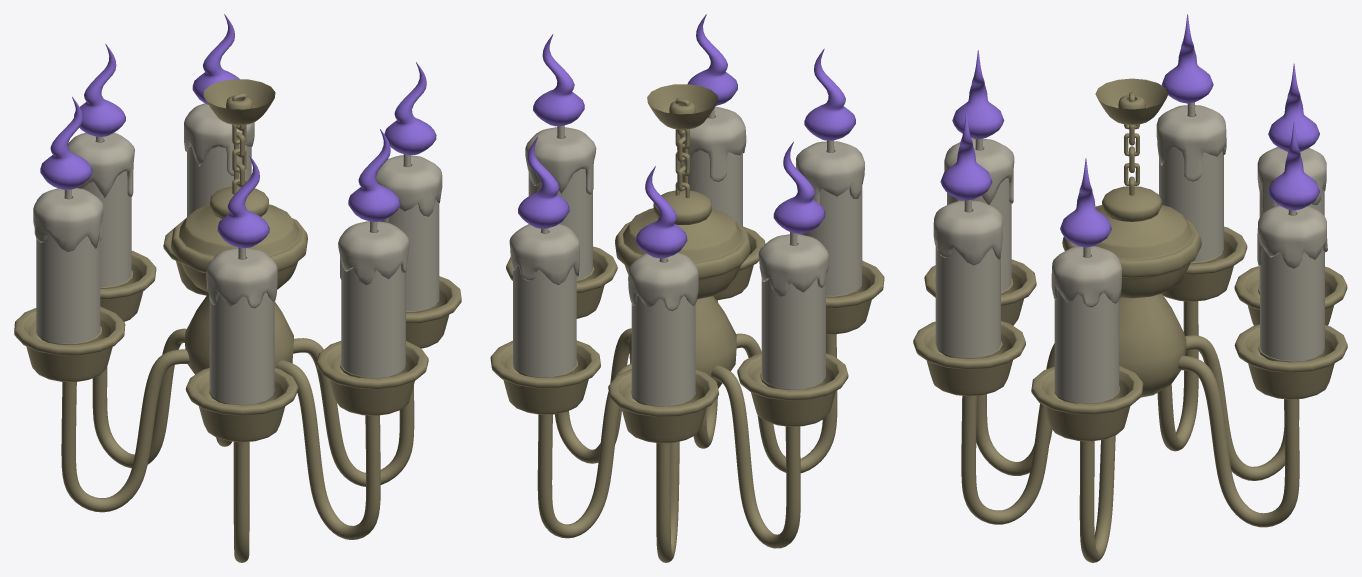
Rendered from Chandelier_1.fbx.
3 views of the same model, side by side, from view 1: azimuth 30°, elevation 25°; view 2: azimuth 150°, elevation 25°; view 3: azimuth 270°, elevation 25° (orthographic).
Visible parts, largest first — view 1: plate (×6), polySurface3 (×6), polySurface4 (×6), midd, polySurface2, under, Fire2, Fire1, Fire3, Fire, Fire5, Fire4; view 2: plate (×6), polySurface3 (×6), polySurface4 (×6), midd, under, polySurface2, Fire5, Fire1, Fire, Fire2, Fire4, Fire3; view 3: plate (×6), polySurface3 (×5), polySurface4 (×6), midd, under, polySurface2, Fire, Fire4, Fire3, Fire1, Fire2, Fire5.
Boxes of the visible parts, left/top/right/bottom form: plate (×6): left=14, top=227, right=461, bottom=562; polySurface3 (×6): left=36, top=136, right=439, bottom=404; polySurface4 (×6): left=33, top=103, right=442, bottom=308; midd: left=171, top=186, right=307, bottom=291; polySurface2: left=203, top=79, right=275, bottom=125; under: left=185, top=293, right=293, bottom=374; Fire2: left=217, top=155, right=269, bottom=248; Fire1: left=40, top=96, right=92, bottom=189; Fire3: left=348, top=129, right=400, bottom=221; Fire: left=384, top=62, right=436, bottom=155; Fire5: left=74, top=44, right=125, bottom=136; Fire4: left=192, top=14, right=239, bottom=104; plate (×6): left=490, top=226, right=884, bottom=562; polySurface3 (×6): left=513, top=108, right=862, bottom=406; polySurface4 (×6): left=509, top=106, right=864, bottom=311; midd: left=615, top=190, right=750, bottom=299; under: left=628, top=296, right=736, bottom=388; polySurface2: left=647, top=84, right=718, bottom=129; Fire5: left=635, top=166, right=687, bottom=258; Fire1: left=773, top=141, right=825, bottom=233; Fire: left=533, top=34, right=584, bottom=126; Fire2: left=804, top=48, right=855, bottom=140; Fire4: left=518, top=137, right=569, bottom=228; Fire3: left=687, top=14, right=737, bottom=105; plate (×6): left=913, top=226, right=1347, bottom=562; polySurface3 (×5): left=935, top=102, right=1324, bottom=403; polySurface4 (×6): left=933, top=105, right=1327, bottom=307; midd: left=1062, top=186, right=1201, bottom=298; under: left=1119, top=293, right=1186, bottom=397; polySurface2: left=1095, top=78, right=1168, bottom=124; Fire: left=1060, top=158, right=1111, bottom=247; Fire4: left=1268, top=121, right=1319, bottom=210; Fire3: left=940, top=111, right=992, bottom=200; Fire1: left=1161, top=14, right=1213, bottom=103; Fire2: left=952, top=50, right=1004, bottom=139; Fire5: left=1268, top=63, right=1319, bottom=151.
Bounding box in the file's own units: 7.42 × 7.78 × 7.28.
